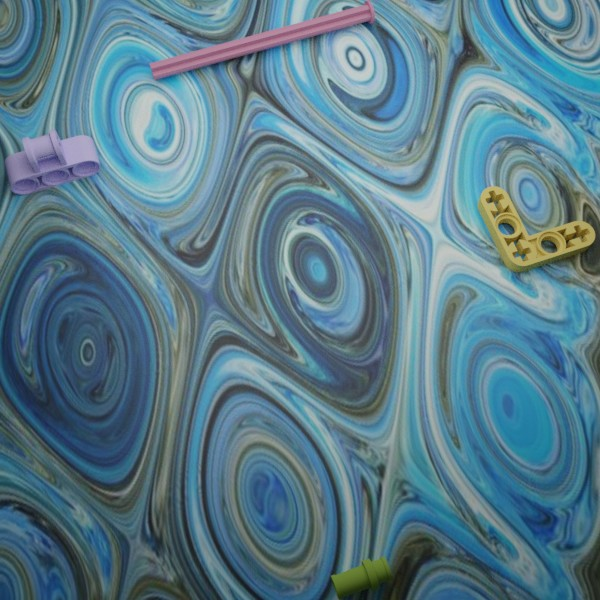lego: (149, 0, 375, 80), (477, 186, 595, 272), (4, 129, 100, 194), (330, 556, 392, 600)
